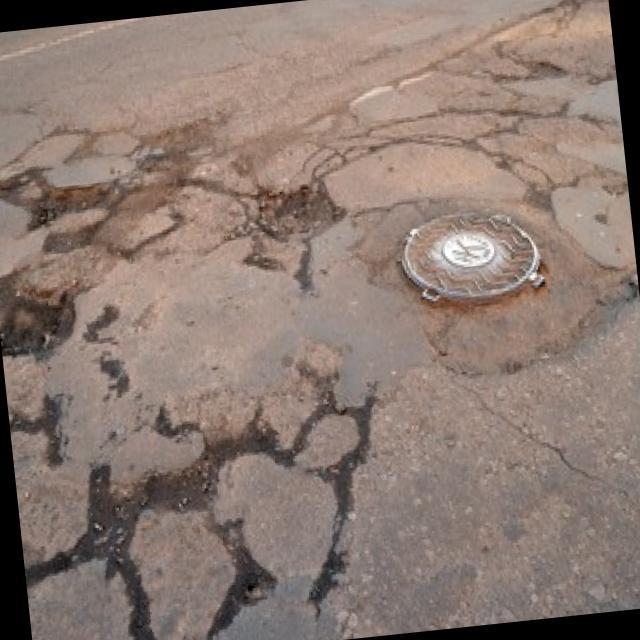Pothole: (0, 264, 80, 361), (250, 172, 352, 248), (23, 180, 112, 228), (519, 52, 569, 82), (0, 173, 16, 232)
